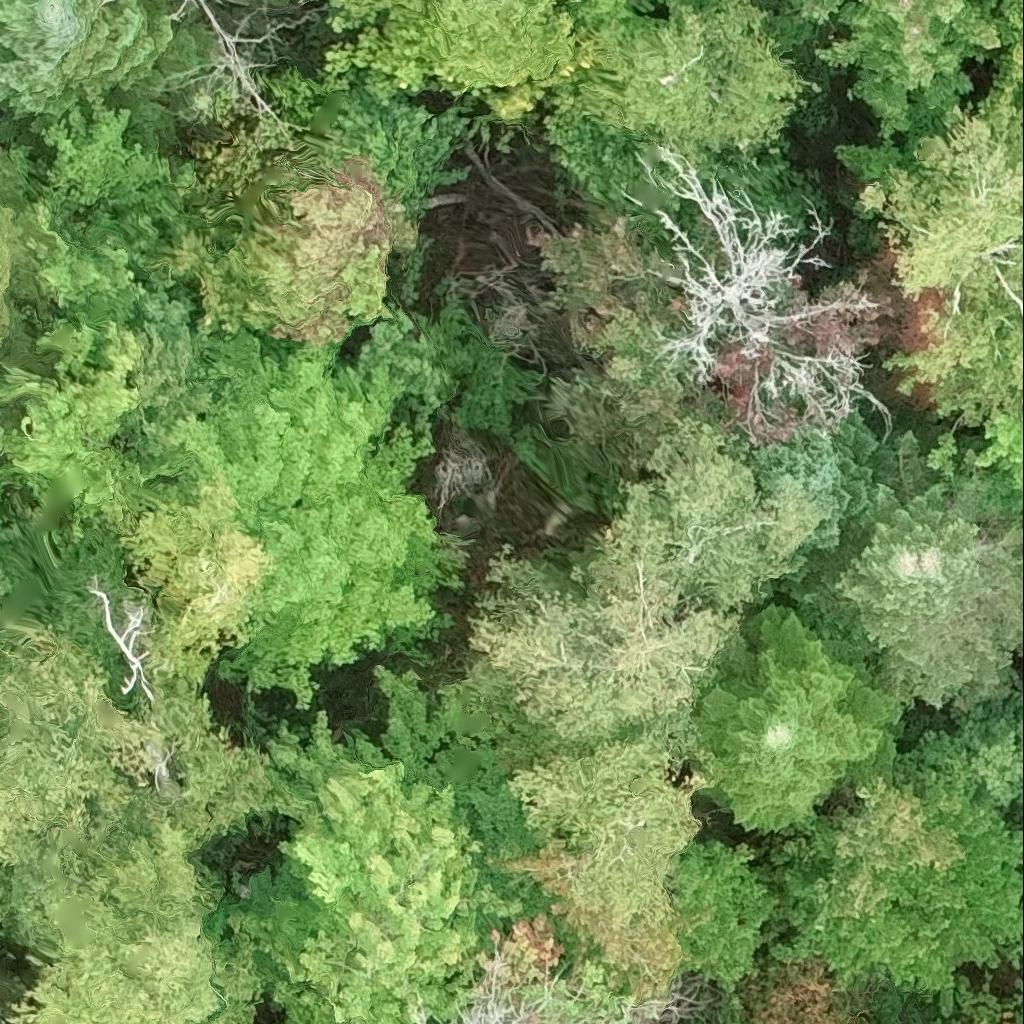crown: (235, 673, 681, 1023), (183, 332, 444, 708), (773, 753, 1023, 1017), (471, 547, 755, 757), (571, 421, 825, 641), (498, 735, 707, 989), (860, 107, 1023, 423), (684, 606, 908, 833), (812, 481, 1023, 702), (77, 469, 268, 686), (807, 0, 1023, 137), (914, 674, 1023, 817), (934, 413, 1023, 519), (986, 6, 1023, 121), (704, 1019, 741, 1023)
